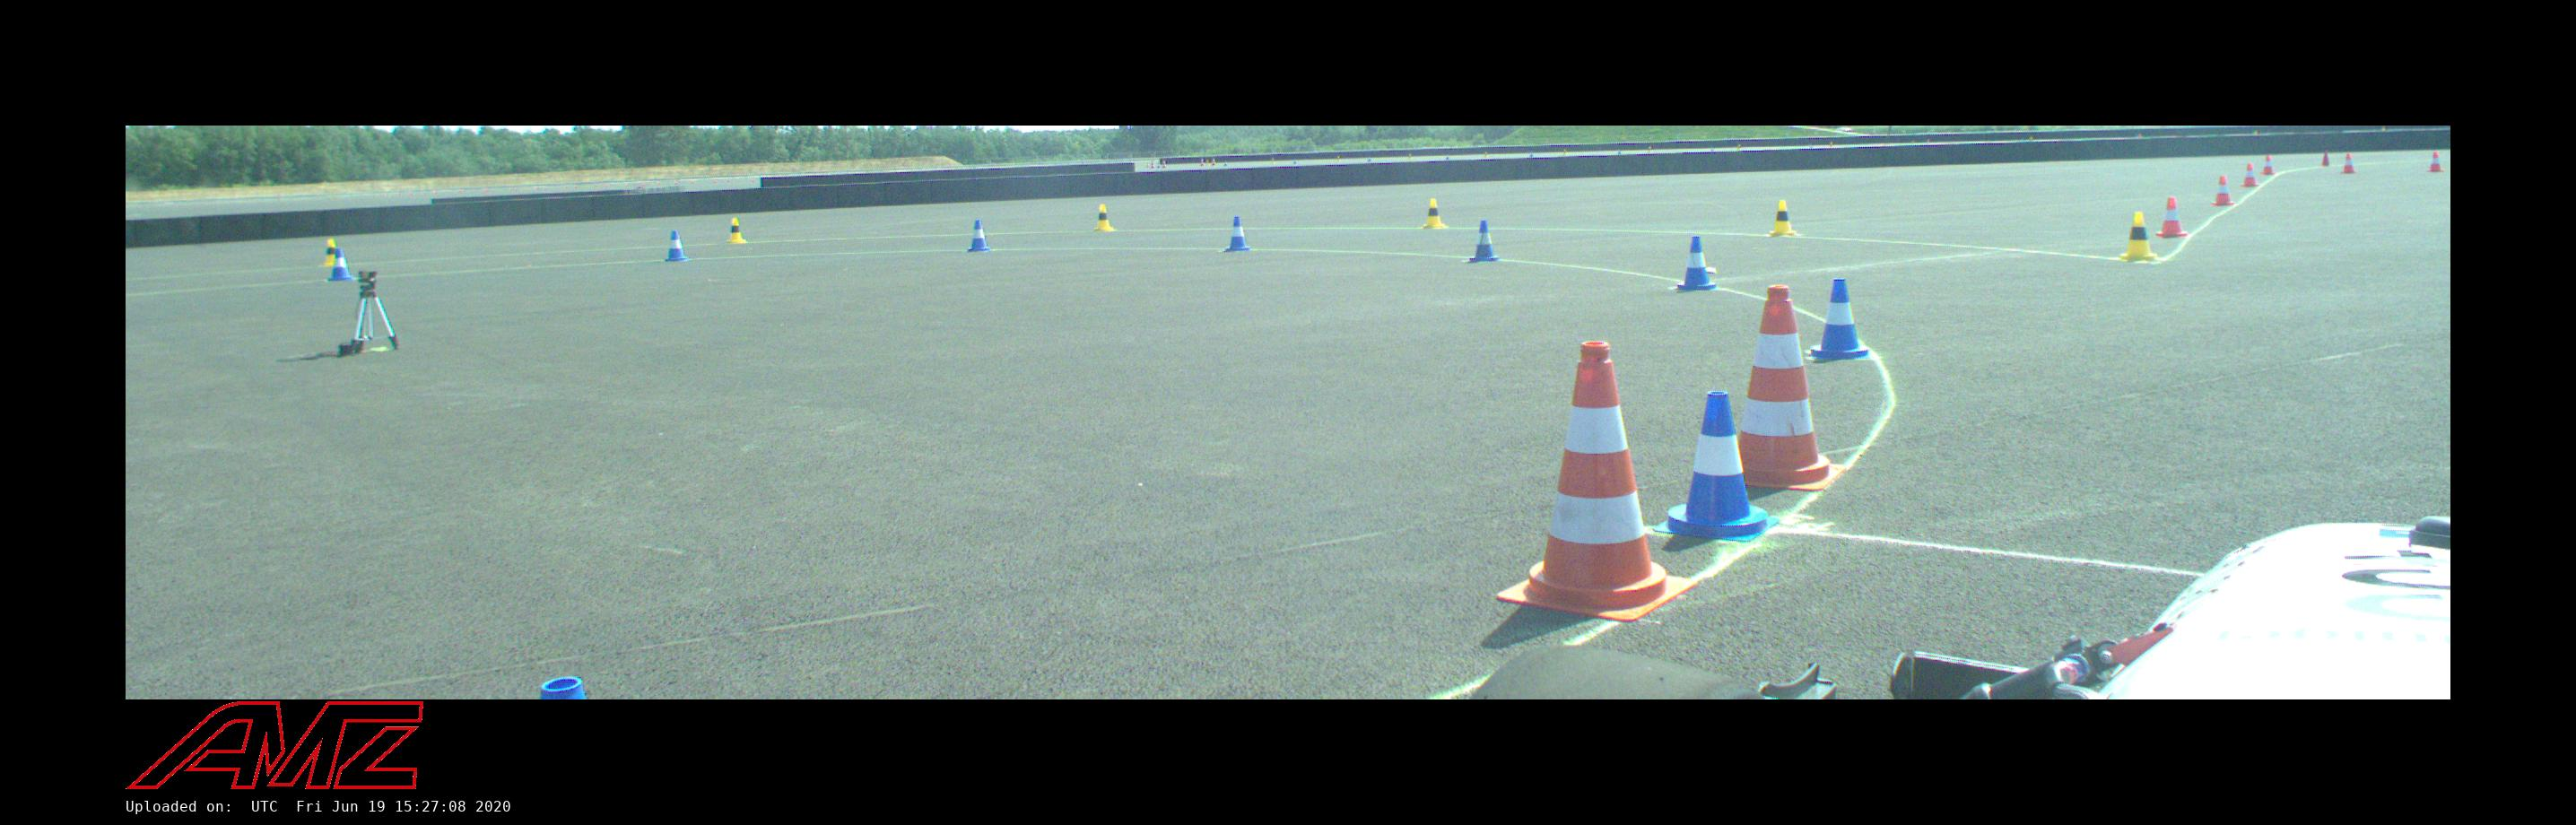blue_cone: (1653, 391, 1781, 542), (1805, 278, 1871, 360), (1672, 237, 1720, 291), (1465, 220, 1505, 261), (1222, 215, 1252, 251), (327, 248, 355, 281), (662, 230, 690, 261), (964, 220, 992, 251)
large_orange_cone: (1497, 342, 1699, 623), (1723, 286, 1847, 490)
orange_cone: (2155, 197, 2188, 237), (2211, 176, 2236, 205), (2241, 163, 2259, 186), (2427, 151, 2443, 173), (2261, 154, 2275, 174), (2341, 154, 2356, 173)
yellow_cone: (2119, 212, 2159, 261), (1768, 199, 1799, 237), (1419, 199, 1449, 228), (1091, 204, 1116, 230), (320, 240, 345, 266), (724, 219, 749, 243)
